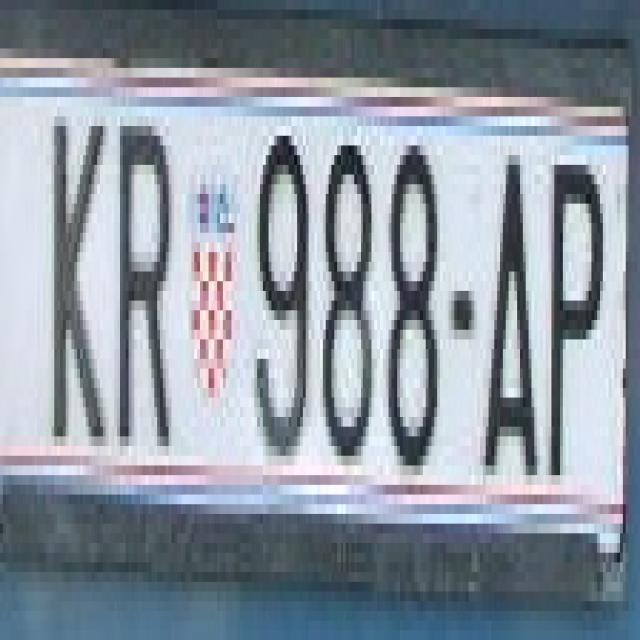8: (322, 126, 374, 437), (386, 145, 434, 456)
9: (248, 146, 308, 447)
A: (480, 145, 537, 485)
K: (48, 97, 106, 456)
P: (548, 145, 603, 485)
